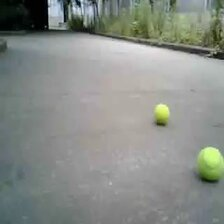tennis: (195, 145, 224, 182), (155, 103, 169, 124)
